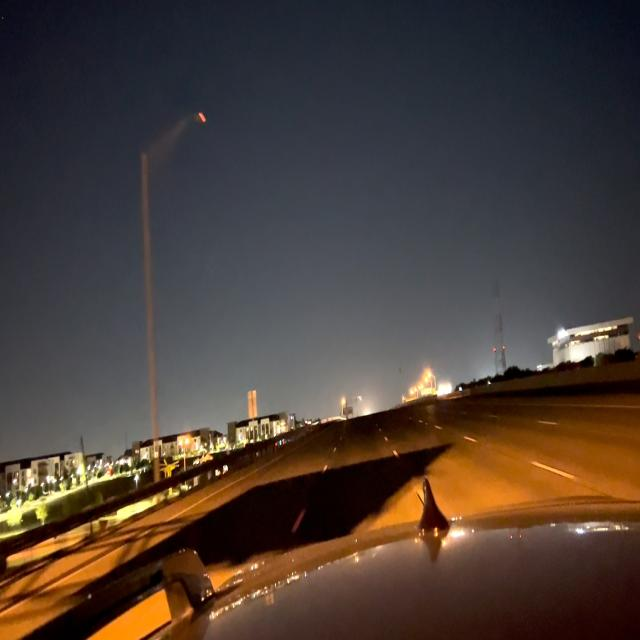back-of-sign: (248, 390, 258, 418)
